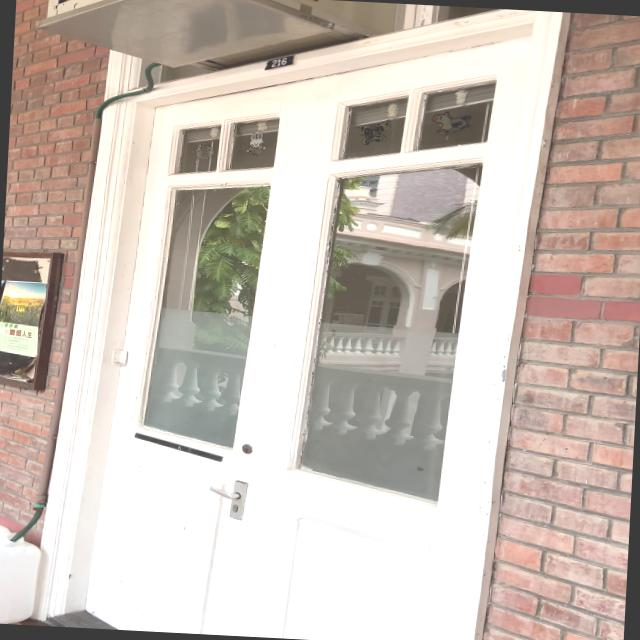room216: (264, 52, 296, 72)
